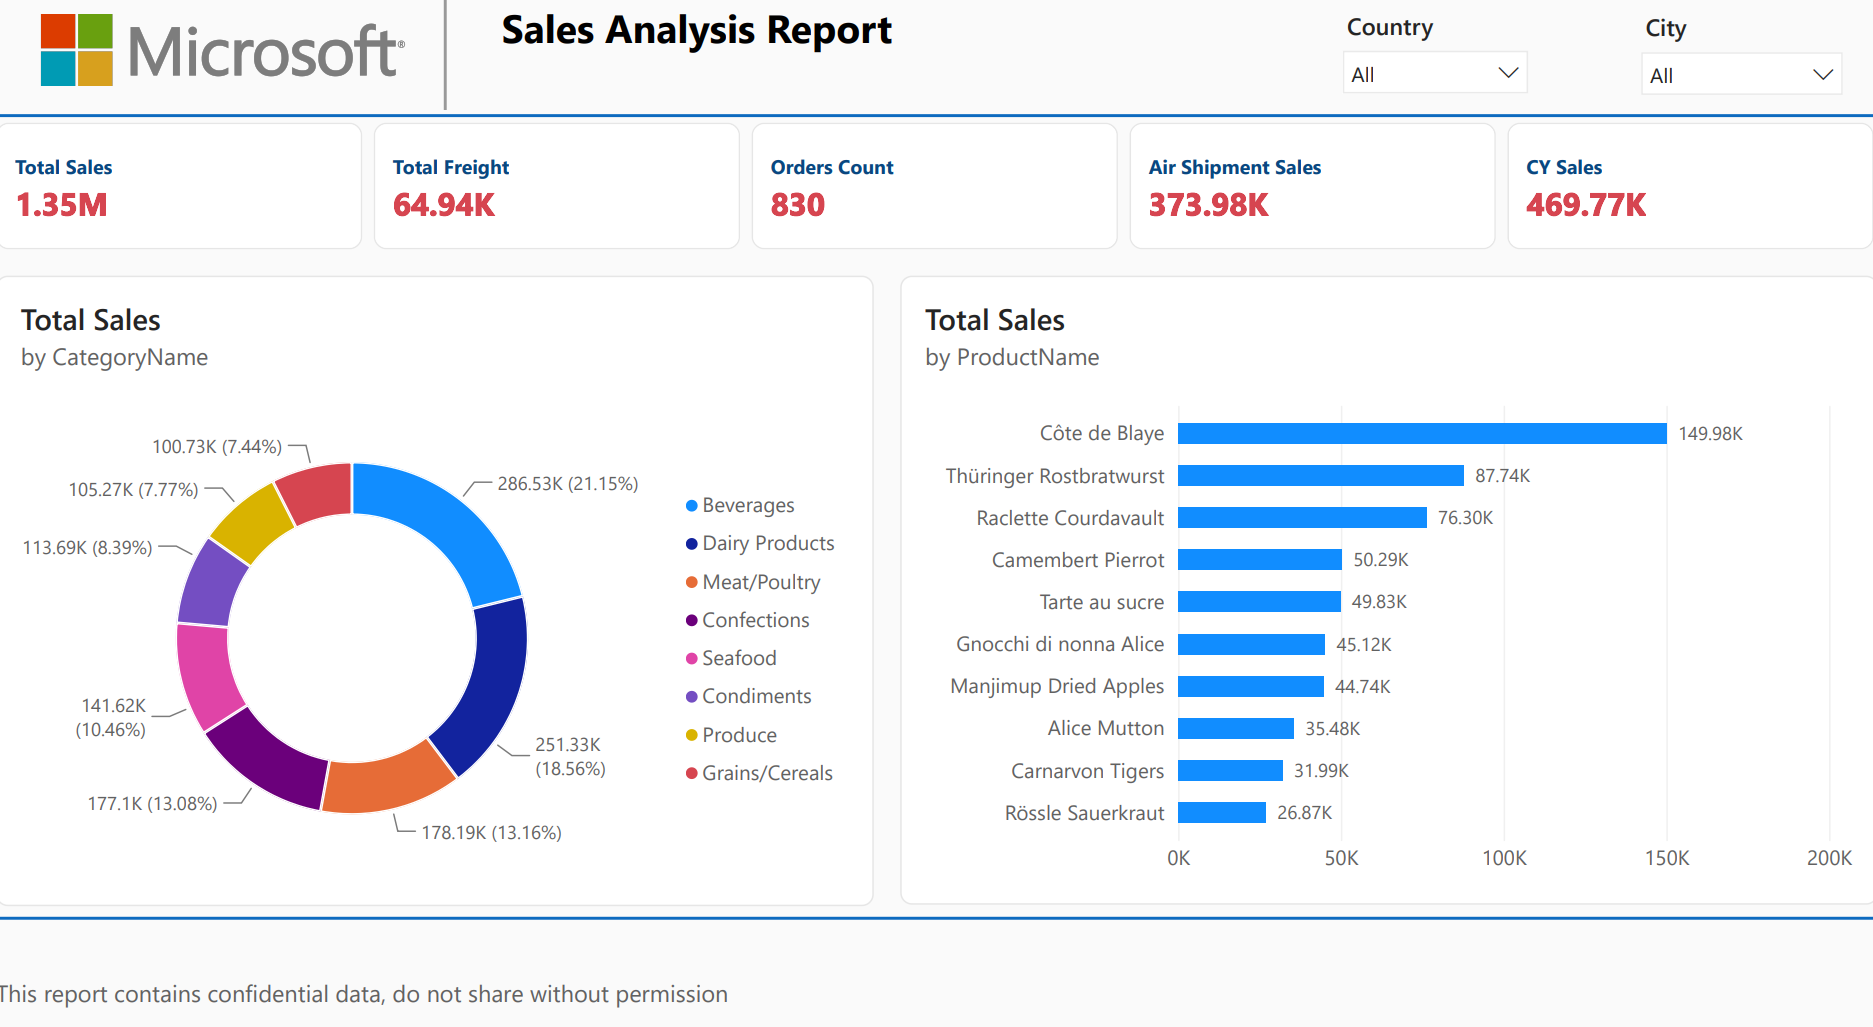

The dashboard page shown, as its layout file describes it:
{"tool":"powerbi","page":{"name":"Summary","canvas":[1280,720],"ordinal":0},"visuals":[{"type":"cardVisual","fields":{"Data":["Order_Details.Total Sales","Orders.Total Freight","Orders.Orders Count","Orders.Air Shipment Sales","Categories.CY Sales"]},"box":[0,84.4,1280.3,86.4],"z":0},{"type":"shape","box":[0,75.5,1280.3,8.2],"z":1},{"type":"shape","box":[0,617.5,1280.3,16.5],"z":2},{"type":"image","box":[24.7,1.4,259.3,67.2],"z":3},{"type":"textbox","box":[344.4,1.4,469.3,41.2],"z":4},{"type":"textbox","box":[0,664.8,596.9,24.7],"z":5},{"type":"shape","box":[297.8,0,15.1,75.5],"z":6},{"type":"slicer","fields":{"Values":["Customers.Country"]},"box":[911.2,6.9,135.8,68.6],"z":7},{"type":"slicer","fields":{"Values":["Customers.City"]},"box":[1114.2,8.2,146.8,68.6],"z":8},{"type":"donutChart","fields":{"Category":["Categories.CategoryName"],"Y":["Order_Details.Total Sales"]},"box":[0,188.2,597.2,429.5],"z":9},{"type":"clusteredBarChart","fields":{"Category":["Products.ProductName"],"Y":["Order_Details.Total Sales"]},"box":[615.3,188.2,664.7,428.3],"z":10}]}

Visuals, with their boxes in screenshot pixels (x1, y1, x2, y2), scaled from the page's 1280x720 canvas onto the 1873x1027 screenshot:
cardVisual - Order_Details.Total Sales x Orders.Total Freight: box=[0, 120, 1872, 244]
shape: box=[0, 108, 1872, 119]
shape: box=[0, 881, 1872, 904]
image: box=[36, 2, 416, 98]
textbox: box=[504, 2, 1191, 61]
textbox: box=[0, 948, 873, 983]
shape: box=[436, 0, 458, 108]
slicer - Customers.Country: box=[1333, 10, 1532, 108]
slicer - Customers.City: box=[1630, 12, 1845, 110]
donutChart - Categories.CategoryName x Order_Details.Total Sales: box=[0, 268, 874, 881]
clusteredBarChart - Products.ProductName x Order_Details.Total Sales: box=[900, 268, 1872, 879]
